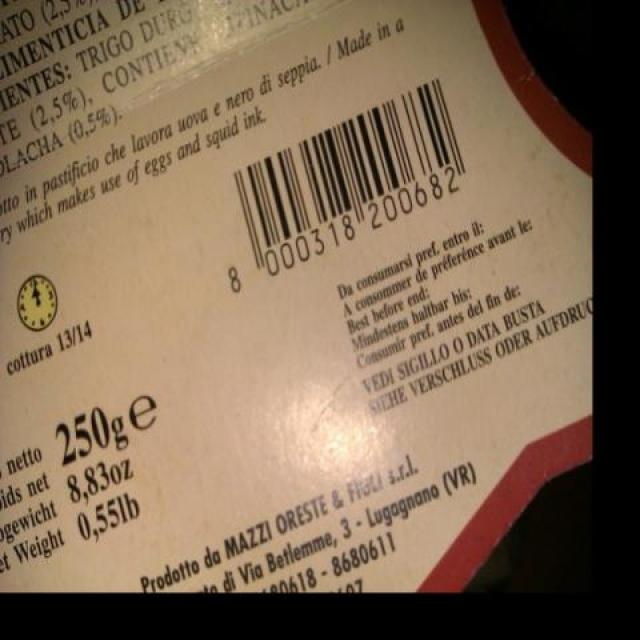Barcode: (195, 62, 482, 306)
